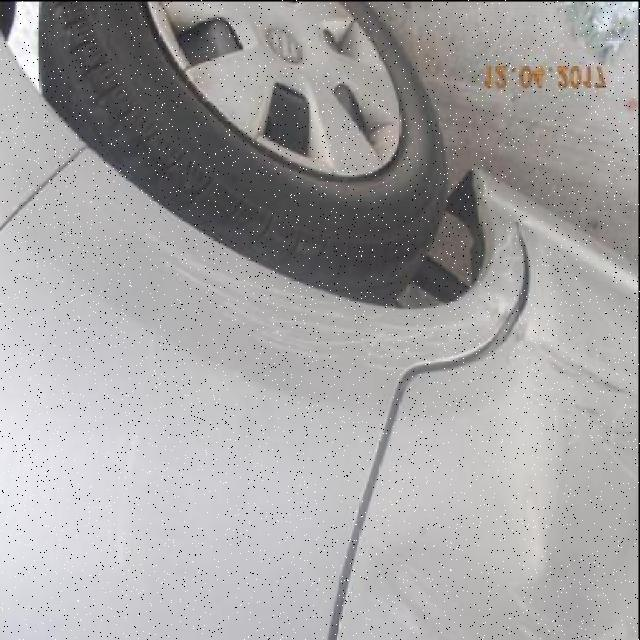damage: (137, 217, 357, 364), (504, 311, 640, 400), (355, 314, 494, 370), (570, 393, 639, 453), (495, 237, 517, 316)
